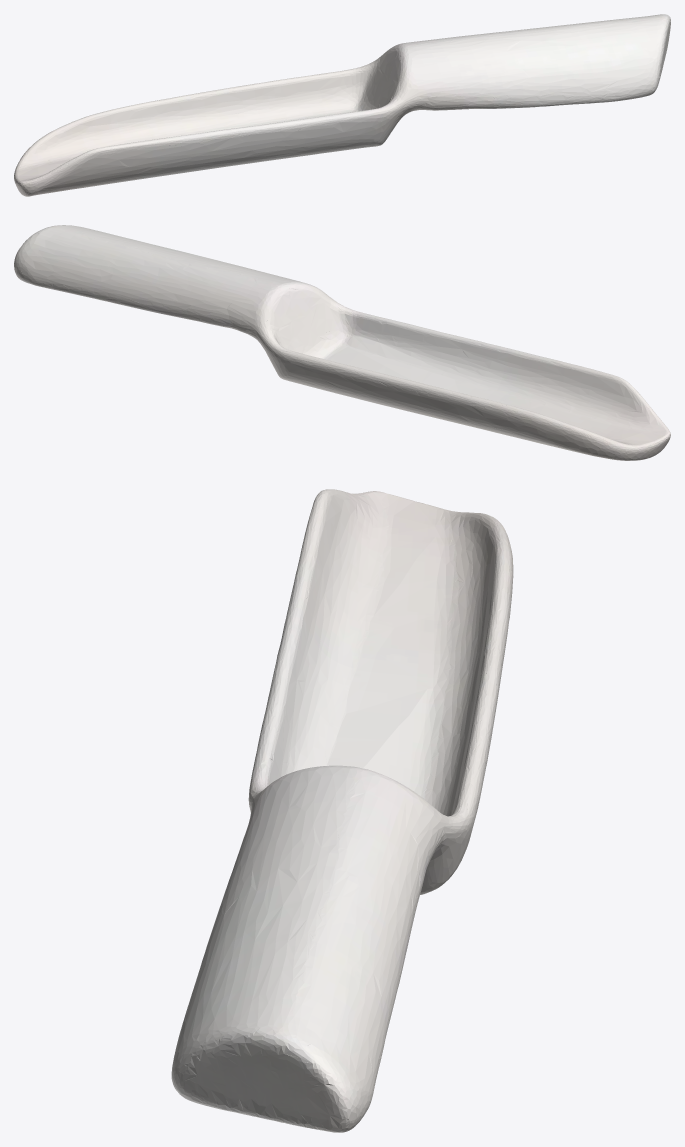
The picture shows the model from 3 angles, top to bottom: view 1: azimuth 30°, elevation 25°; view 2: azimuth 150°, elevation 25°; view 3: azimuth 270°, elevation 25°; orthographic projection. The views are drawn at different scales.
Visible parts, largest first — view 1: world; view 2: world; view 3: world.
Part boxes in pixels (bbox=[...]): world: bbox=[14, 14, 670, 196]; world: bbox=[14, 225, 670, 460]; world: bbox=[171, 489, 513, 1132].
Size of the model in its own units: 1 by 0.1181 by 0.2315.
Materials: 1 (1 with a texture image).
